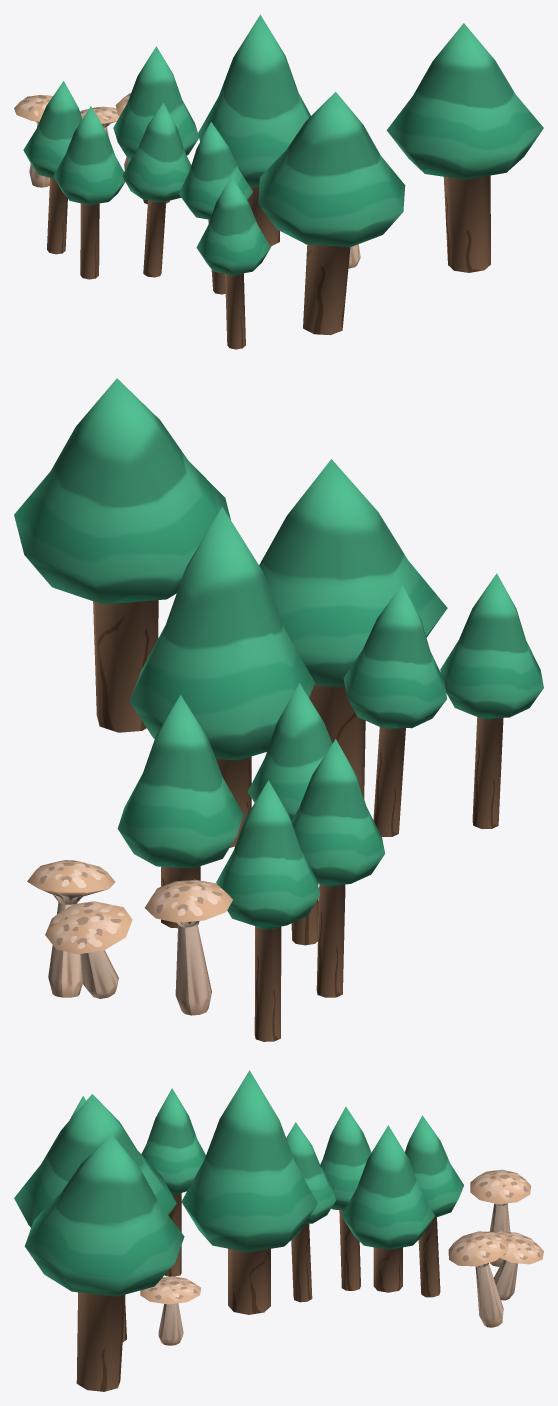
File: Nature_07.fbx
3 views of the same model, one above another, from view 1: azimuth 30°, elevation 25°; view 2: azimuth 150°, elevation 25°; view 3: azimuth 270°, elevation 25° (orthographic). The views are drawn at different scales.
Visible parts, largest first — view 1: Nature_07; view 2: Nature_07; view 3: Nature_07.
Part boxes in pixels (bbox=[...]): Nature_07: bbox=[14, 14, 543, 349]; Nature_07: bbox=[14, 378, 543, 1041]; Nature_07: bbox=[14, 1070, 543, 1391].
Size of the model in its own units: 64.84 by 48.13 by 79.67.
